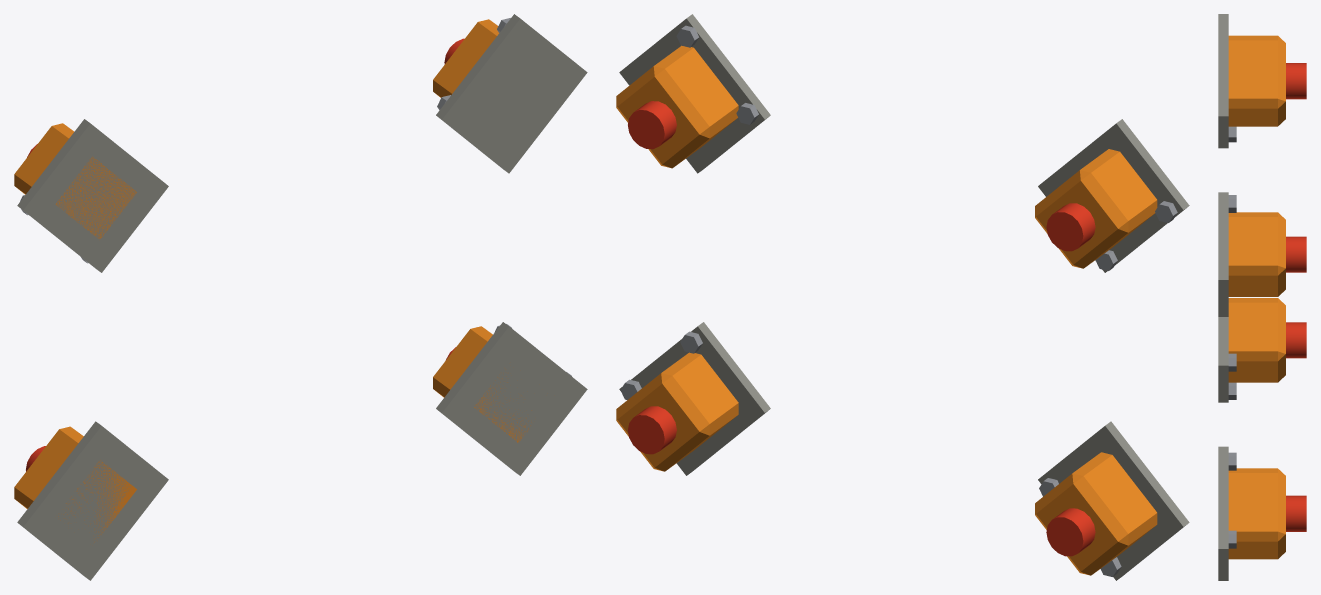
The model's file is refuge100_release.obj.
3 renders of one model, left to right at view 1: azimuth 30°, elevation 25°; view 2: azimuth 150°, elevation 25°; view 3: azimuth 270°, elevation 25°, orthographic. The views are drawn at different scales.
Parts seen in each view (by area): view 1: refuge100_release; view 2: refuge100_release; view 3: refuge100_release.
Boxes of the visible parts, x1,y1,x2,y2 form: refuge100_release: [14, 14, 587, 580]; refuge100_release: [616, 14, 1189, 580]; refuge100_release: [1218, 14, 1306, 580].
Bounding box in the file's own units: 2.14 × 1.65 × 0.34.
